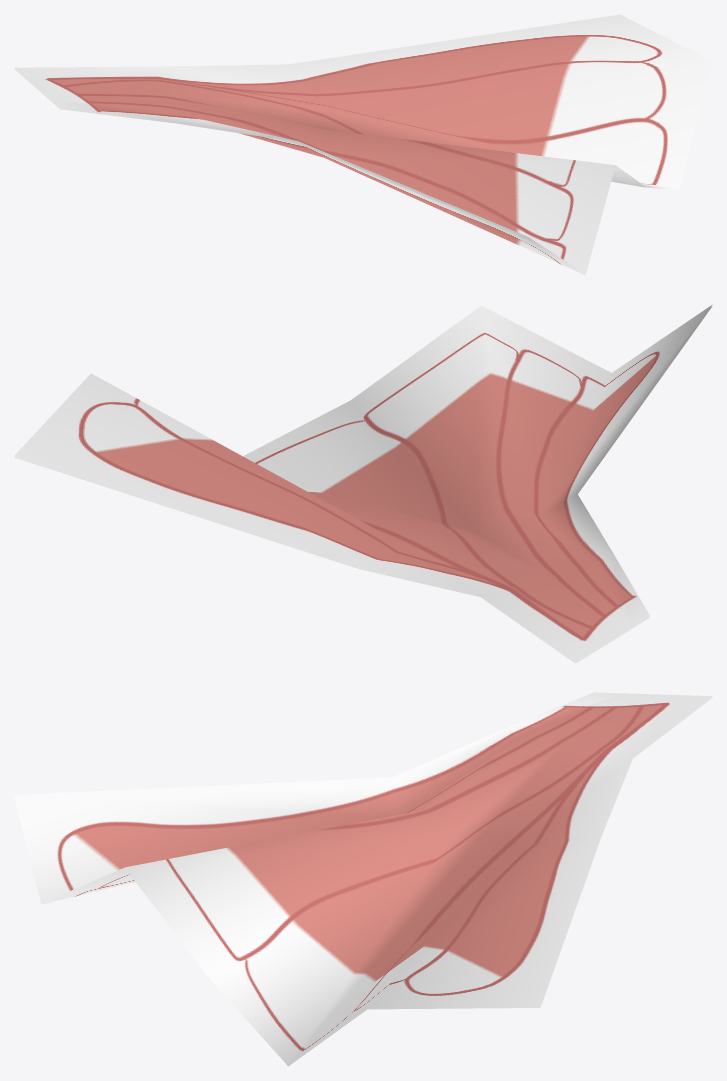
The model's file is fin4.fbx.
3 renders of one model, top to bottom at view 1: azimuth 30°, elevation 25°; view 2: azimuth 150°, elevation 25°; view 3: azimuth 270°, elevation 25°, orthographic. The views are drawn at different scales.
Parts seen in each view (by area): view 1: fin4; view 2: fin4; view 3: fin4.
Part boxes in pixels (left/top/right/bottom): fin4: left=14, top=14, right=712, bottom=275; fin4: left=14, top=304, right=712, bottom=663; fin4: left=14, top=692, right=712, bottom=1066.
Bounding box in the file's own units: 25.15 × 4.86 × 24.69.
